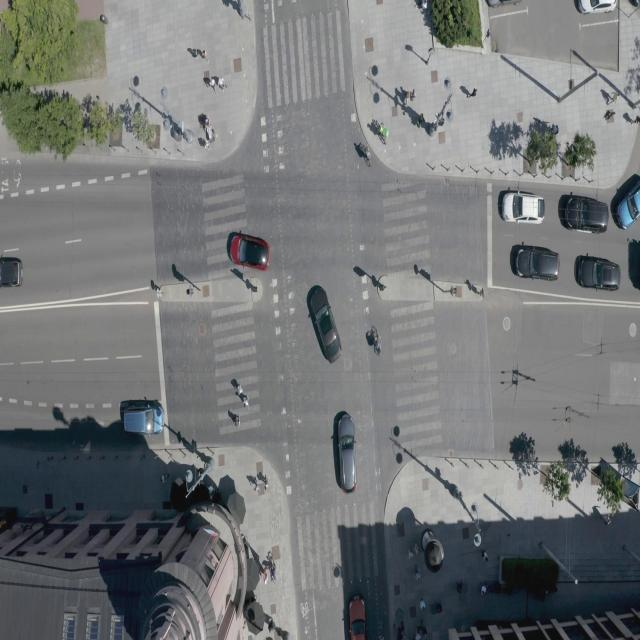Car: (310, 288, 342, 366), (228, 230, 272, 272), (337, 414, 358, 496), (566, 196, 609, 234), (578, 255, 621, 291), (516, 246, 560, 281), (501, 192, 545, 226), (124, 401, 165, 436), (616, 180, 640, 230), (346, 594, 367, 640), (0, 254, 24, 290)
